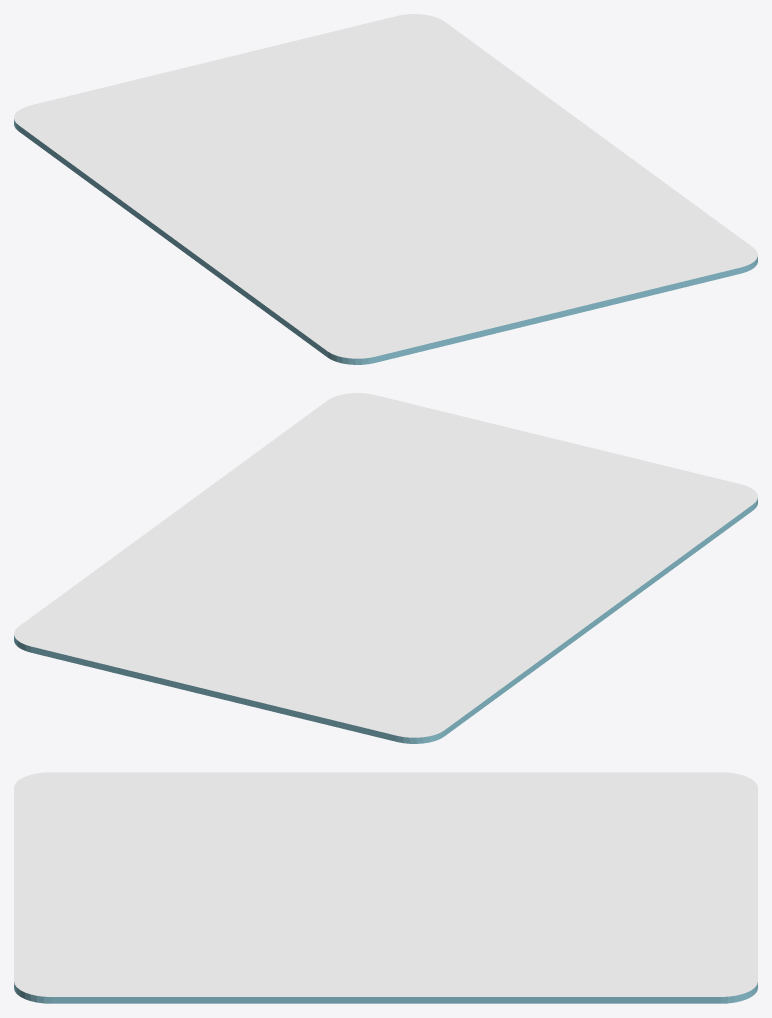
Rendered from card_shatter_08.glb.
The picture shows the model from 3 angles, top to bottom: view 1: azimuth 30°, elevation 25°; view 2: azimuth 150°, elevation 25°; view 3: azimuth 270°, elevation 25°; orthographic projection. The views are drawn at different scales.
Parts seen in each view (by area): view 1: V08_CardPiece_03, V08_CardPiece_01, V08_CardPiece_10, V08_CardPiece_05, V08_CardPiece_08, V08_CardPiece_04, V08_CardPiece_07, V08_CardPiece_06, V08_CardPiece_02, V08_CardPiece_09; view 2: V08_CardPiece_10, V08_CardPiece_03, V08_CardPiece_01, V08_CardPiece_08, V08_CardPiece_05, V08_CardPiece_07, V08_CardPiece_04, V08_CardPiece_06, V08_CardPiece_02, V08_CardPiece_09; view 3: V08_CardPiece_10, V08_CardPiece_05, V08_CardPiece_03, V08_CardPiece_01, V08_CardPiece_08, V08_CardPiece_04, V08_CardPiece_07, V08_CardPiece_06, V08_CardPiece_02, V08_CardPiece_09.
Part boxes in pixels (x1=…): V08_CardPiece_03: x1=402, y1=209, x2=597, y2=352; V08_CardPiece_01: x1=168, y1=210, x2=416, y2=364; V08_CardPiece_10: x1=315, y1=14, x2=607, y2=147; V08_CardPiece_05: x1=560, y1=160, x2=757, y2=308; V08_CardPiece_08: x1=159, y1=36, x2=354, y2=185; V08_CardPiece_04: x1=383, y1=141, x2=633, y2=245; V08_CardPiece_07: x1=16, y1=74, x2=327, y2=194; V08_CardPiece_06: x1=14, y1=113, x2=294, y2=240; V08_CardPiece_02: x1=268, y1=182, x2=420, y2=320; V08_CardPiece_09: x1=345, y1=71, x2=529, y2=183; V08_CardPiece_10: x1=14, y1=507, x2=233, y2=672; V08_CardPiece_03: x1=414, y1=430, x2=697, y2=540; V08_CardPiece_01: x1=495, y1=474, x2=757, y2=626; V08_CardPiece_08: x1=113, y1=579, x2=411, y2=710; V08_CardPiece_05: x1=209, y1=393, x2=517, y2=487; V08_CardPiece_07: x1=269, y1=587, x2=448, y2=743; V08_CardPiece_04: x1=182, y1=472, x2=420, y2=567; V08_CardPiece_06: x1=420, y1=594, x2=593, y2=743; V08_CardPiece_02: x1=382, y1=492, x2=652, y2=596; V08_CardPiece_09: x1=171, y1=531, x2=392, y2=637; V08_CardPiece_10: x1=367, y1=931, x2=757, y2=1003; V08_CardPiece_05: x1=14, y1=906, x2=309, y2=1003; V08_CardPiece_03: x1=14, y1=810, x2=316, y2=921; V08_CardPiece_01: x1=14, y1=772, x2=396, y2=824; V08_CardPiece_08: x1=412, y1=855, x2=757, y2=937; V08_CardPiece_04: x1=160, y1=885, x2=393, y2=1003; V08_CardPiece_07: x1=416, y1=778, x2=757, y2=862; V08_CardPiece_06: x1=396, y1=772, x2=748, y2=843; V08_CardPiece_02: x1=79, y1=818, x2=419, y2=886; V08_CardPiece_09: x1=393, y1=874, x2=662, y2=962.
Bounding box in the file's own units: 0.429 × 0.006 × 0.6.
